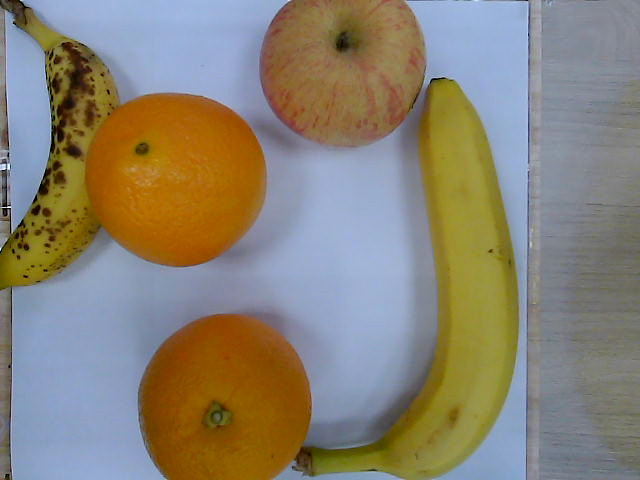fresh_apple: (260, 1, 429, 146)
fresh_banana: (302, 78, 521, 480)
fresh_orange: (86, 94, 268, 268), (138, 315, 312, 480)
rotten_banana: (1, 1, 118, 281)
